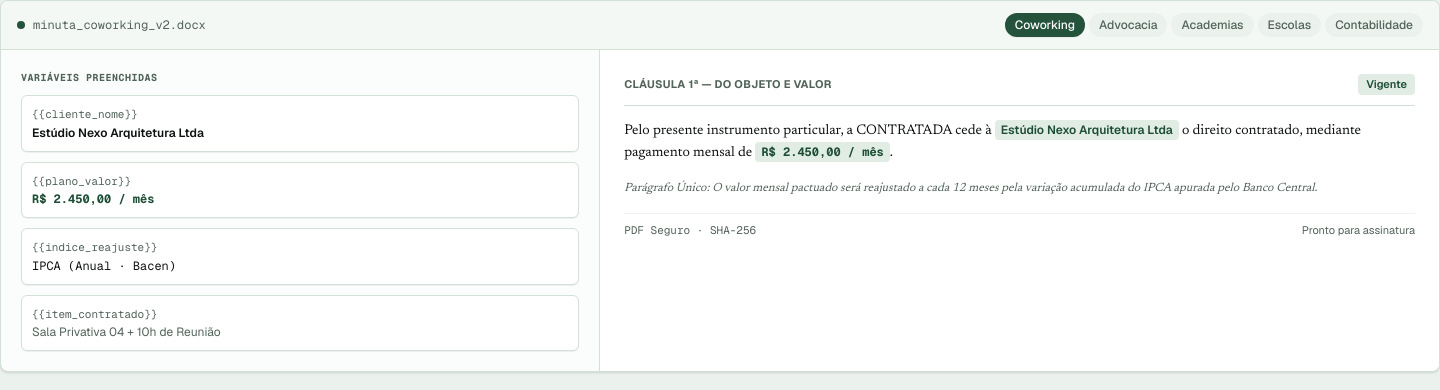
it: Componentes da Hero e Navbar (Spec 0001 - CA1, CA2, CA3, CA4) › CA4: LiveDocumentCard deve alternar para Advocacia ao clicar na pílula correspondente
The width and height of the screenshot is (1440, 390).
Click the tab "Advocacia": [1128, 25] box x1=1089 y1=13 x2=1168 y2=37
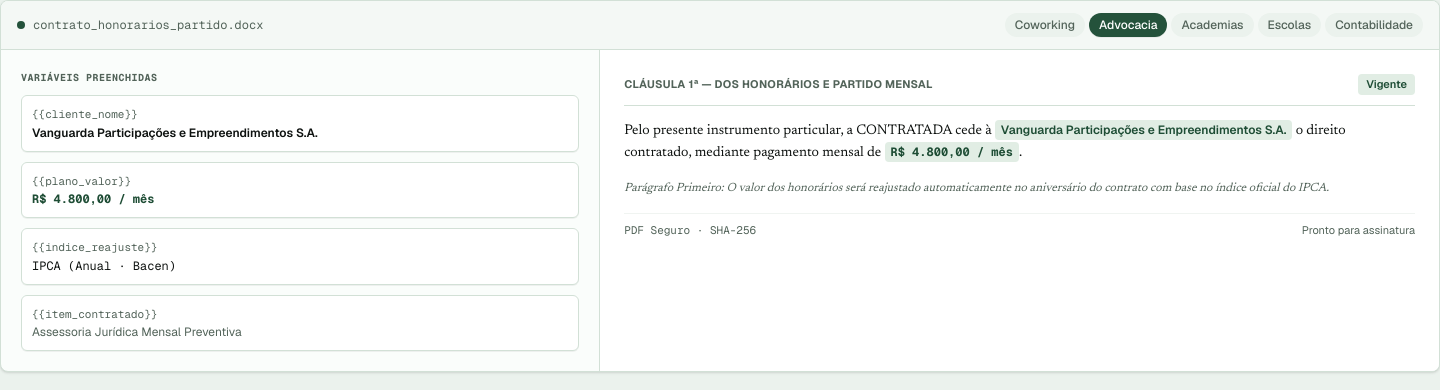
Expected: the text "Vanguarda Participações e Empreendimentos S.A." is shown 2 times, x1=32 y1=124 x2=318 y2=140; x1=995 y1=120 x2=1292 y2=140
Expected: the text "CLÁUSULA 1ª — DOS HONORÁRIOS E PARTIDO MENSAL" is shown, x1=624 y1=76 x2=933 y2=92
